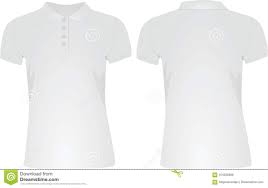S_polo shirt: (5, 6, 138, 164)
